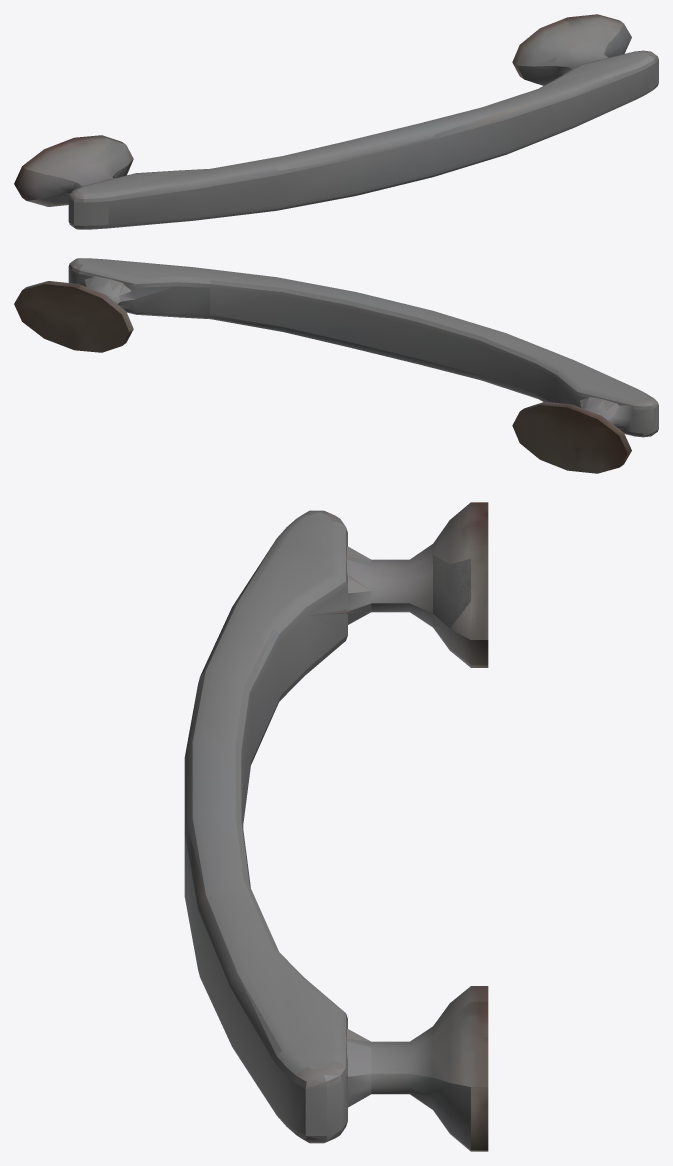
Rendered from link_6__handle-105.glb.
3 renders of one model, top to bottom at view 1: azimuth 30°, elevation 25°; view 2: azimuth 150°, elevation 25°; view 3: azimuth 270°, elevation 25°, orthographic. The views are drawn at different scales.
Visible parts, largest first — view 1: geometry_0; view 2: geometry_0; view 3: geometry_0.
Boxes of the visible parts, x1,y1,x2,y2 form: geometry_0: (14, 14, 658, 229); geometry_0: (14, 258, 658, 473); geometry_0: (184, 502, 488, 1151).
Size of the model in its own units: 0.0989 by 0.00972 by 0.0212.
Materials: 1 (1 with a texture image).
